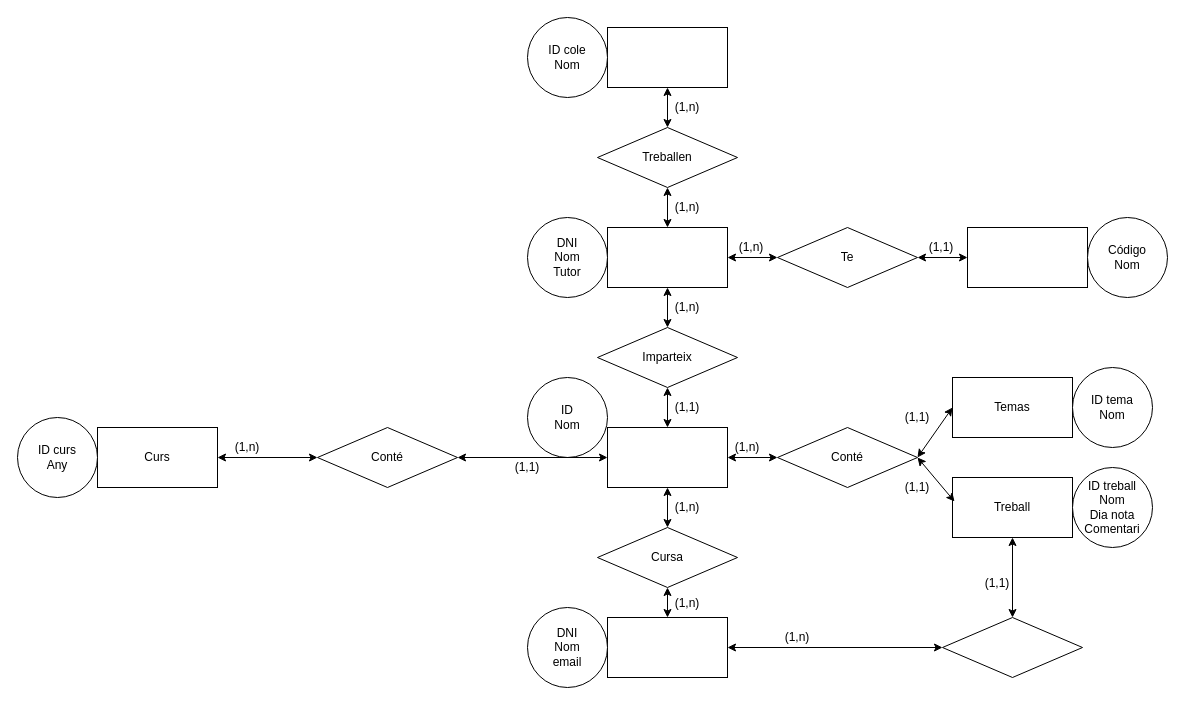
The diagram is 1185 pixels wide and 705 high, and some of its shapes have lost their labels. Each missing label, with the centre of its shape:
Alumnes: (x=667, y=647)
Asignatura: (x=667, y=457)
Escola: (x=667, y=57)
Fer: (x=1012, y=647)
Profesor: (x=667, y=257)
Titulació: (x=1027, y=257)
